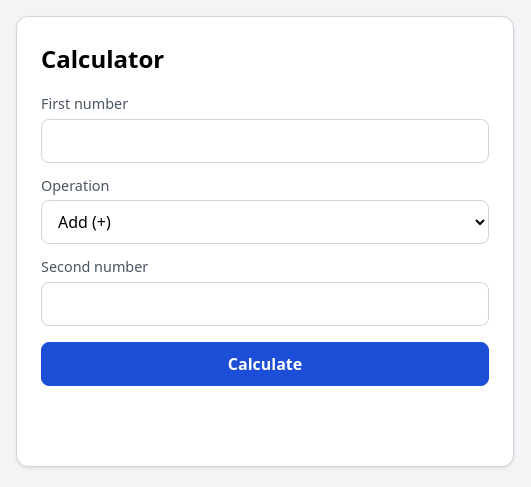
Scenario: sends subtract and formats the result
The image size is (531, 487).
Select "Subtract (−)" in the dropdown labelled "Operation": (265, 222) x1=41 y1=200 x2=489 y2=244
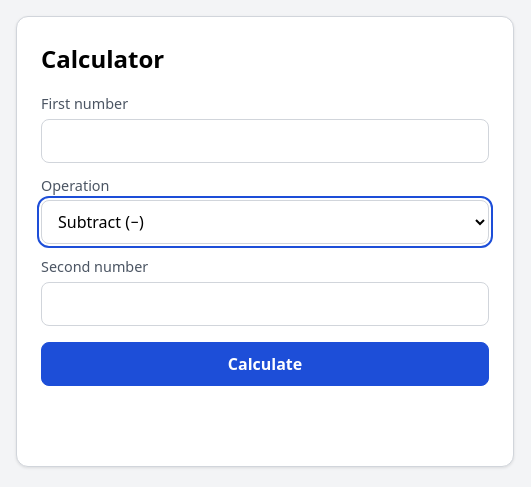
In the field labelled "First number": (265, 141) x1=41 y1=119 x2=489 y2=163, type "2"
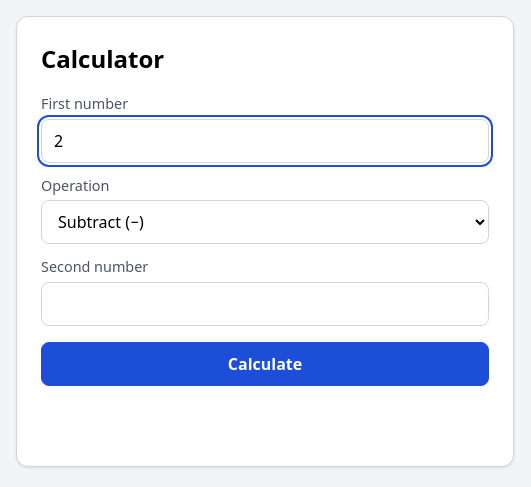
In the field labelled "Second number": (265, 304) x1=41 y1=282 x2=489 y2=326, type "3"
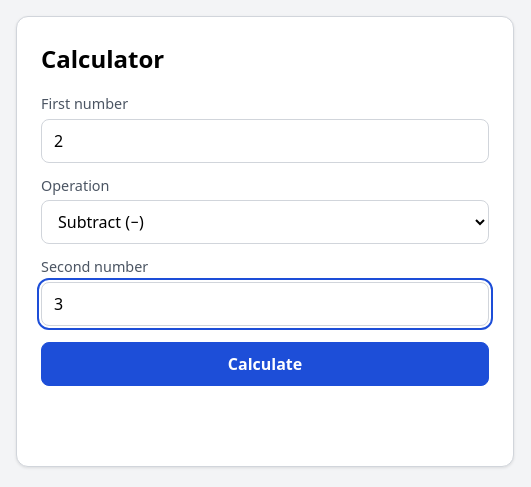
Click the button "Calculate": (265, 364) x1=41 y1=342 x2=489 y2=386
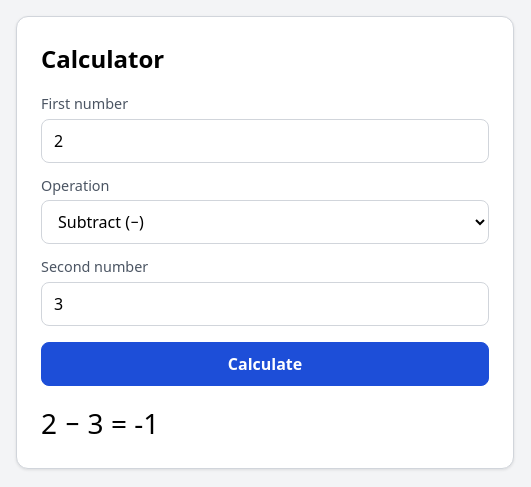
Now the text named "Result" reads "2 − 3 = -1", box x1=41 y1=404 x2=159 y2=442
